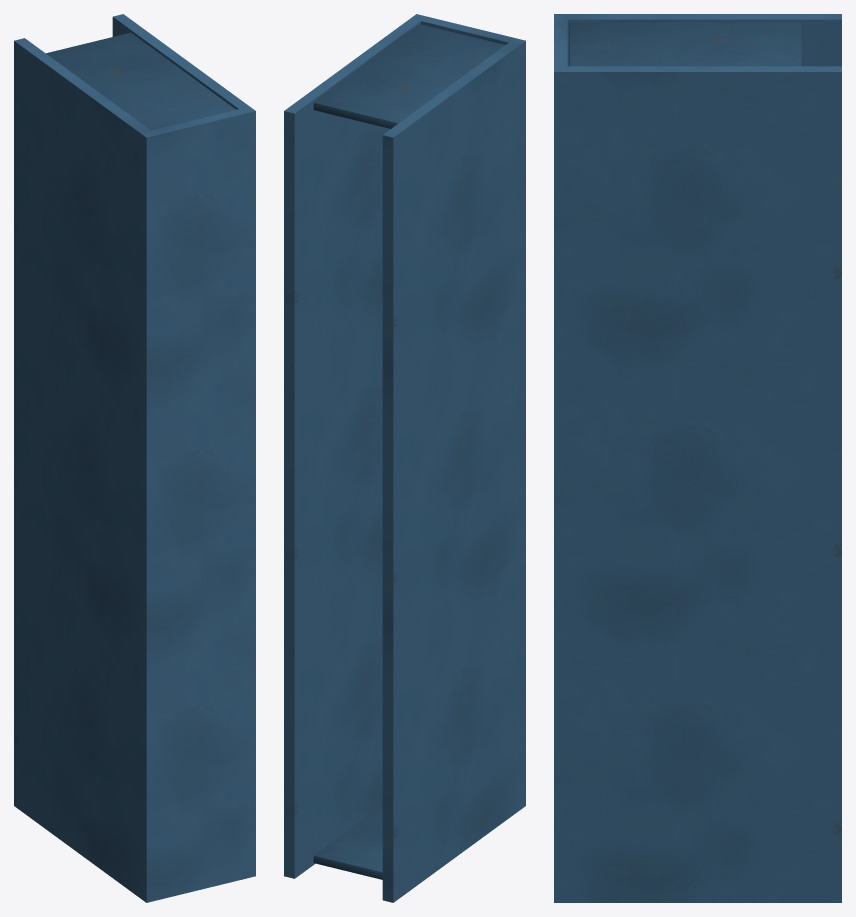
Rendered from u_beam.glb.
3 renders of one model, left to right at view 1: azimuth 30°, elevation 25°; view 2: azimuth 150°, elevation 25°; view 3: azimuth 270°, elevation 25°, orthographic. The views are drawn at different scales.
Parts seen in each view (by area): view 1: Body.009; view 2: Body.009; view 3: Body.009.
Part boxes in pixels (box(x1,y1,x2,y2)): Body.009: box(14, 14, 255, 902); Body.009: box(284, 14, 525, 902); Body.009: box(554, 14, 841, 902).
Bounding box in the file's own units: 0.224 × 1.5 × 0.47.
Materials: 3 (3 with a texture image).
